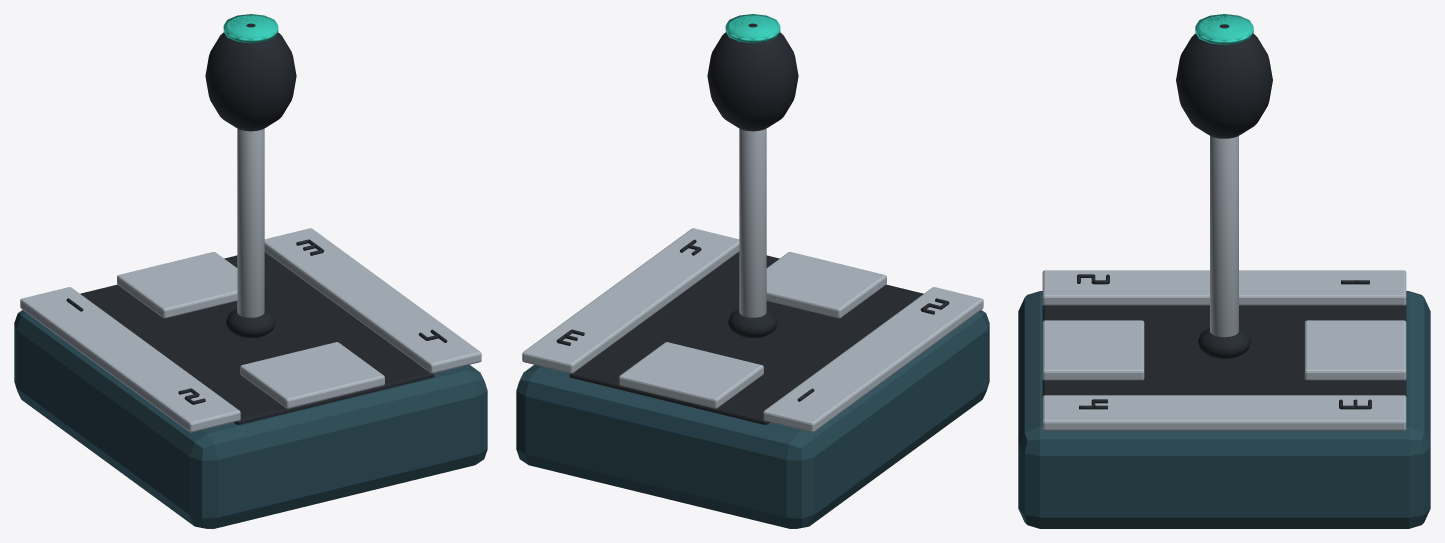
The model's file is shifter-four-gate.glb.
3 renders of one model, left to right at view 1: azimuth 30°, elevation 25°; view 2: azimuth 150°, elevation 25°; view 3: azimuth 270°, elevation 25°, orthographic. The views are drawn at different scales.
Parts seen in each view (by area): view 1: housing, gate_well, gate_plate0, gate_plate1, knob, gate_plate3, gate_plate2, lever, boot, knob_cap.001, knob_cap; view 2: housing, gate_well, gate_plate0, gate_plate1, knob, gate_plate2, gate_plate3, lever, boot, knob_cap.001, knob_cap; view 3: housing, gate_well, gate_plate1, gate_plate0, knob, gate_plate2, gate_plate3, lever, boot, knob_cap.001, knob_cap.
Boxes of the visible parts, left/top/right/bottom form: housing: left=14, top=310, right=487, bottom=528; gate_well: left=80, top=252, right=434, bottom=424; gate_plate0: left=20, top=287, right=240, bottom=432; gate_plate1: left=264, top=228, right=481, bottom=373; knob: left=205, top=23, right=296, bottom=131; gate_plate3: left=240, top=342, right=384, bottom=408; gate_plate2: left=117, top=252, right=237, bottom=318; lever: left=237, top=128, right=264, bottom=317; boot: left=226, top=309, right=275, bottom=338; knob_cap.001: left=223, top=14, right=278, bottom=43; knob_cap: left=224, top=15, right=277, bottom=41; housing: left=516, top=310, right=989, bottom=528; gate_well: left=569, top=252, right=923, bottom=424; gate_plate0: left=763, top=287, right=983, bottom=432; gate_plate1: left=522, top=228, right=739, bottom=373; knob: left=707, top=23, right=798, bottom=131; gate_plate2: left=619, top=342, right=763, bottom=408; gate_plate3: left=766, top=252, right=886, bottom=318; lever: left=739, top=128, right=766, bottom=317; boot: left=728, top=309, right=777, bottom=338; knob_cap.001: left=725, top=14, right=780, bottom=43; knob_cap: left=726, top=15, right=779, bottom=41; housing: left=1018, top=291, right=1430, bottom=528; gate_well: left=1042, top=305, right=1406, bottom=396; gate_plate1: left=1042, top=395, right=1406, bottom=430; gate_plate0: left=1042, top=270, right=1406, bottom=305; knob: left=1176, top=24, right=1272, bottom=138; gate_plate2: left=1304, top=320, right=1406, bottom=380; gate_plate3: left=1042, top=320, right=1144, bottom=380; lever: left=1210, top=136, right=1238, bottom=337; boot: left=1198, top=327, right=1250, bottom=358; knob_cap.001: left=1195, top=14, right=1253, bottom=45; knob_cap: left=1195, top=15, right=1253, bottom=43.
Size of the model in its own units: 0.15 by 0.198 by 0.17.
